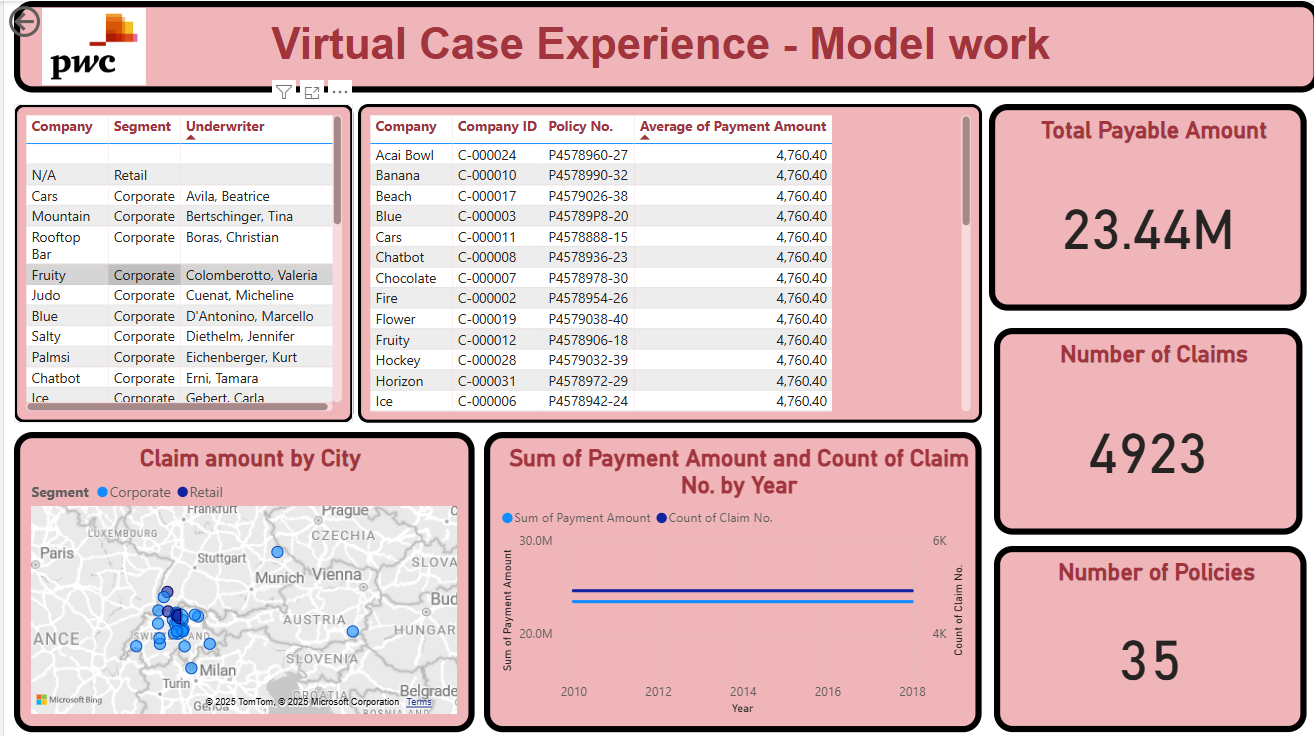

Layout of this report page (visuals, bound fields, positions):
{"tool":"powerbi","page":{"name":"Page 1","canvas":[1280,720],"ordinal":0},"visuals":[{"type":"textbox","box":[9.7,0,1270.3,88.5],"z":0},{"type":"image","box":[37,6.8,101.2,74.9],"z":1000},{"type":"tableEx","fields":{"Values":["Contracts Lookup.Company","Contracts Lookup.Segment","Contracts Lookup.Underwriter"]},"box":[9.7,100.2,329.7,310.3],"z":2000},{"type":"tableEx","fields":{"Values":["Contracts Lookup.Company","Contracts Lookup.Company ID","Contracts Lookup.Policy No.","Claims.Payment Amount"]},"box":[344.3,100.2,606.9,310.3],"z":3000},{"type":"actionButton","box":[0,0,100,40],"z":4000},{"type":"card","title":"Total Payable Amount","fields":{"Values":["Claims.Payment Amount"]},"box":[958.1,100.2,309.3,201.3],"z":5000},{"type":"card","title":"Number of Claims","fields":{"Values":["Claims.Claim No."]},"box":[962.9,318.1,299.6,201.3],"z":6000},{"type":"card","title":"Number of Policies","fields":{"Values":["Claims.Policy No."]},"box":[962.9,530.1,304.4,180.9],"z":7000},{"type":"map","title":"Claim amount by City","fields":{"Category":["Contracts Lookup.City"],"Size":["Claims.Payment Amount"],"Series":["Contracts Lookup.Segment"]},"box":[9.7,419.2,448.4,291.8],"z":8000},{"type":"lineChart","fields":{"Category":["Table2.Year"],"Y2":["Table1.Claim No."],"Y":["Table1.Payment Amount"]},"box":[466.9,419.2,484.4,291.8],"z":8001}]}

Visuals, with their boxes in screenshot pixels (x1, y1, x2, y2):
textbox: crop(27, 3, 1307, 93)
image: crop(54, 10, 156, 86)
tableEx - Contracts Lookup.Company x Contracts Lookup.Segment: crop(27, 104, 359, 417)
tableEx - Contracts Lookup.Company x Contracts Lookup.Company ID: crop(364, 104, 976, 417)
actionButton: crop(17, 3, 118, 44)
"Total Payable Amount" card: crop(983, 104, 1294, 307)
"Number of Claims" card: crop(987, 324, 1289, 527)
"Number of Policies" card: crop(987, 538, 1294, 720)
"Claim amount by City" map: crop(27, 426, 479, 720)
lineChart - Table2.Year x Table1.Claim No.: crop(488, 426, 976, 720)
